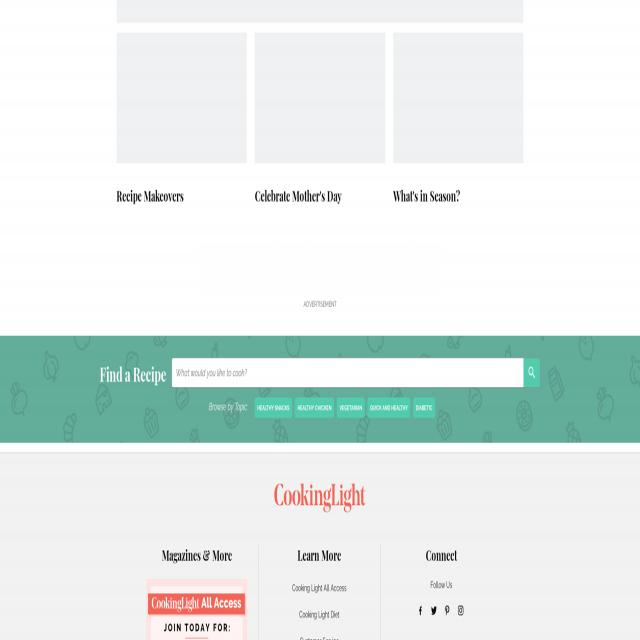button: (146, 578, 246, 640), (274, 482, 366, 514), (368, 398, 410, 418), (295, 398, 334, 418), (254, 398, 292, 418), (337, 398, 365, 418), (524, 358, 540, 387), (413, 398, 435, 418), (415, 600, 426, 620), (429, 600, 439, 620), (442, 600, 452, 620), (456, 600, 466, 620)
field: (172, 358, 524, 387)
